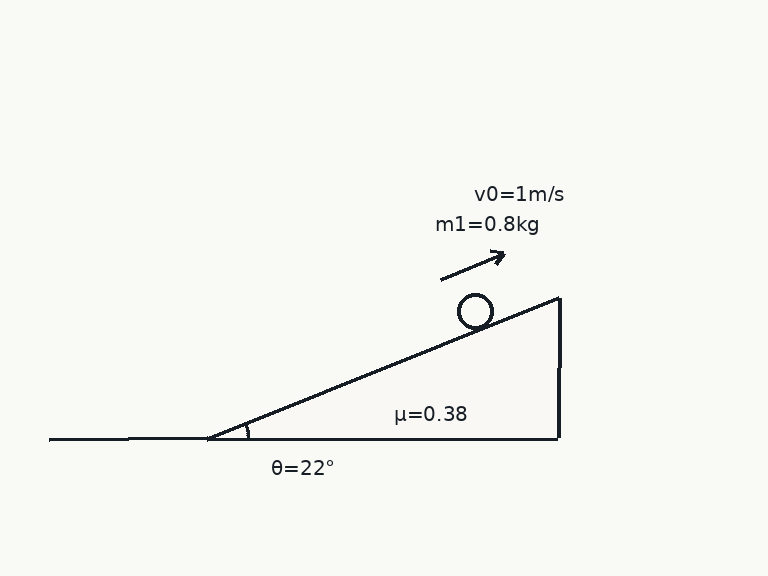ball: (455, 291, 495, 331)
ramp: (206, 294, 560, 440)
